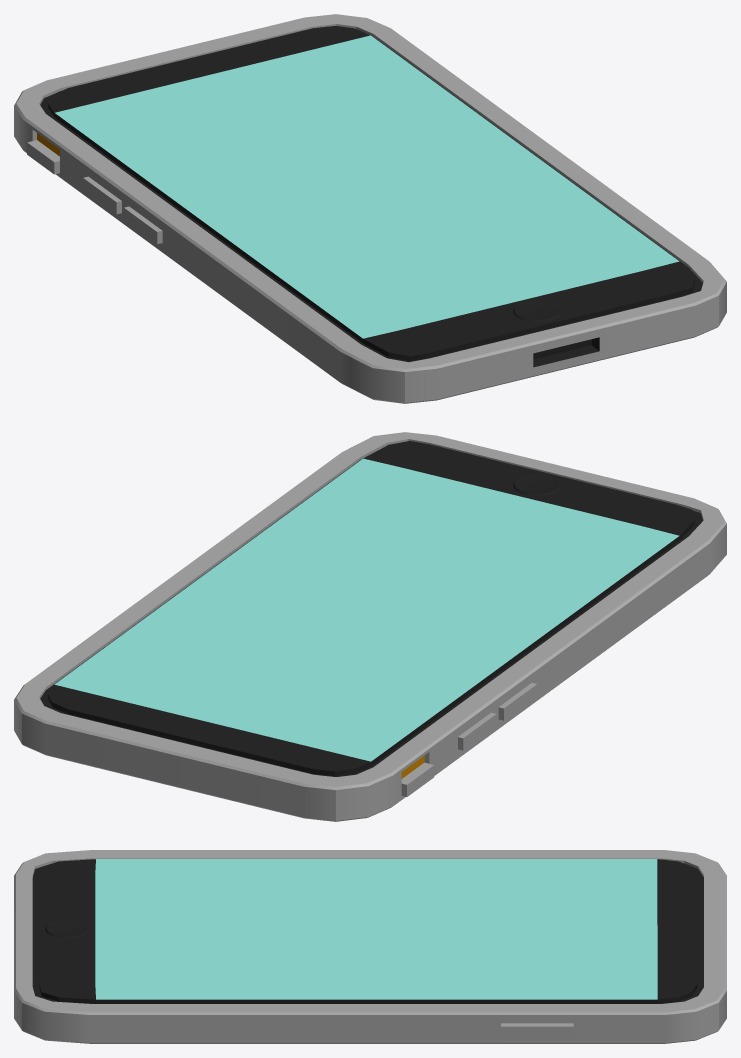
The model's file is cellphone.fbx.
3 views of the same model, one above another, from view 1: azimuth 30°, elevation 25°; view 2: azimuth 150°, elevation 25°; view 3: azimuth 270°, elevation 25° (orthographic). The views are drawn at different scales.
Visible parts, largest first — view 1: pCube1, pCylinder1, pCube5, pCube2, pCube3; view 2: pCube1, pCylinder1, pCube5, pCube3, pCube2; view 3: pCube1, pCube4, pCylinder1.
Part boxes in pixels (x1,y1,x2,y2): pCube1: (14,14,726,403); pCylinder1: (513,300,561,321); pCube5: (27,140,59,174); pCube2: (83,176,121,214); pCube3: (124,206,162,244); pCube1: (14,432,726,821); pCylinder1: (513,474,561,495); pCube5: (401,762,434,796); pCube3: (498,683,537,720); pCube2: (458,712,496,750); pCube1: (14,850,726,1043); pCube4: (501,1023,573,1037); pCylinder1: (45,919,89,938).
Size of the model in its own units: 1.69 by 0.1767 by 3.
